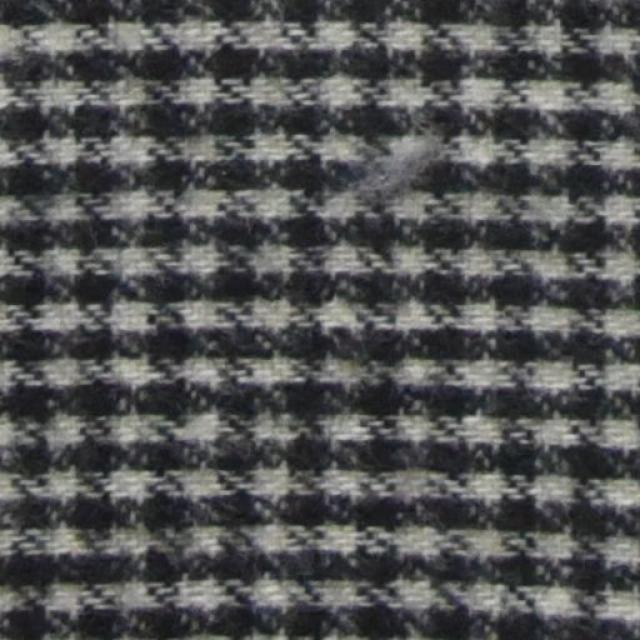Snag: (308, 119, 438, 249)
